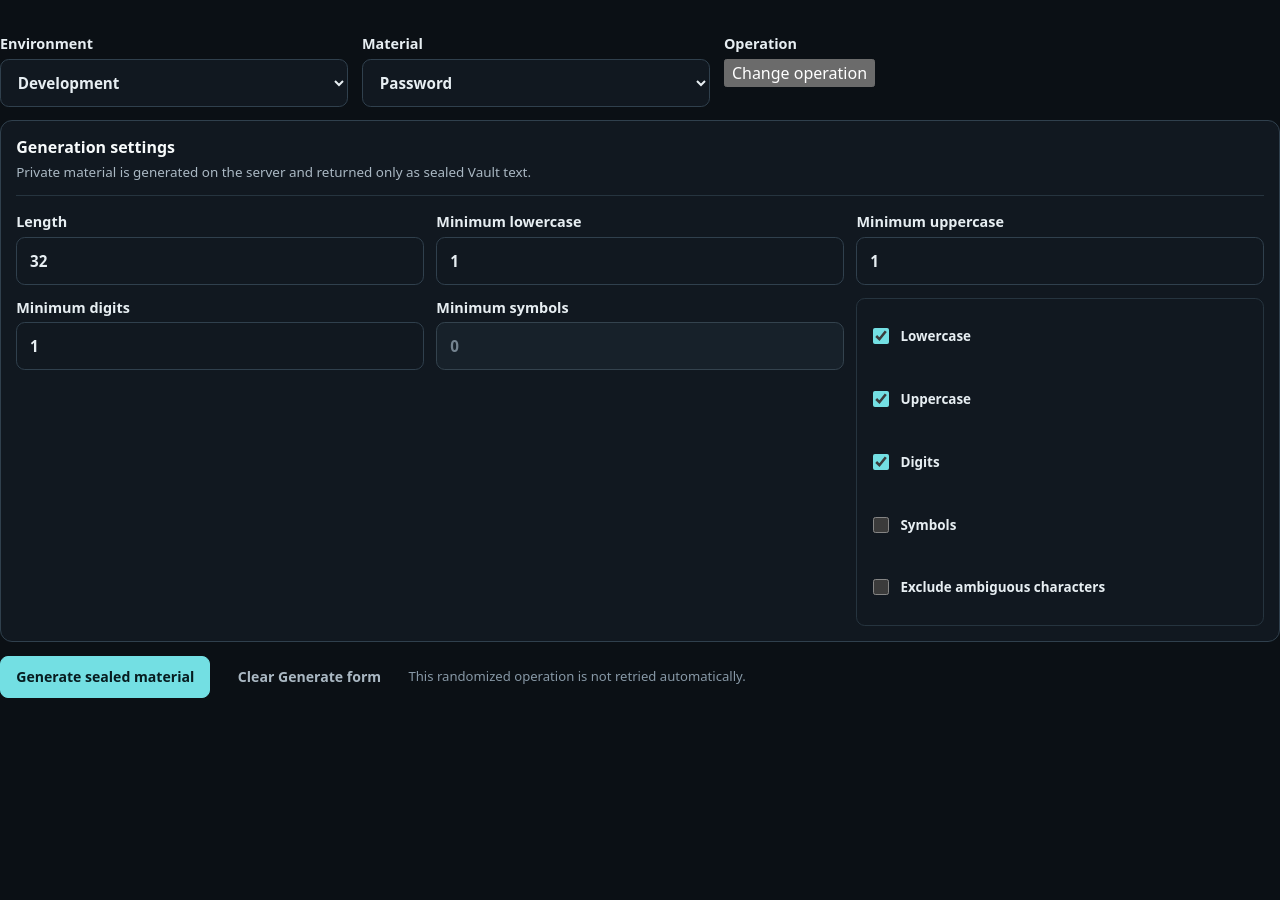
Test: Generate workbench › copies only the sealed x509_csr value as an Ansible snippet
expect the field labelled "Ansible variable name" is not shown: met
Select "X.509 key and CSR" in the dropdown labelled "Material" at (536, 83), box [362,59,710,107]
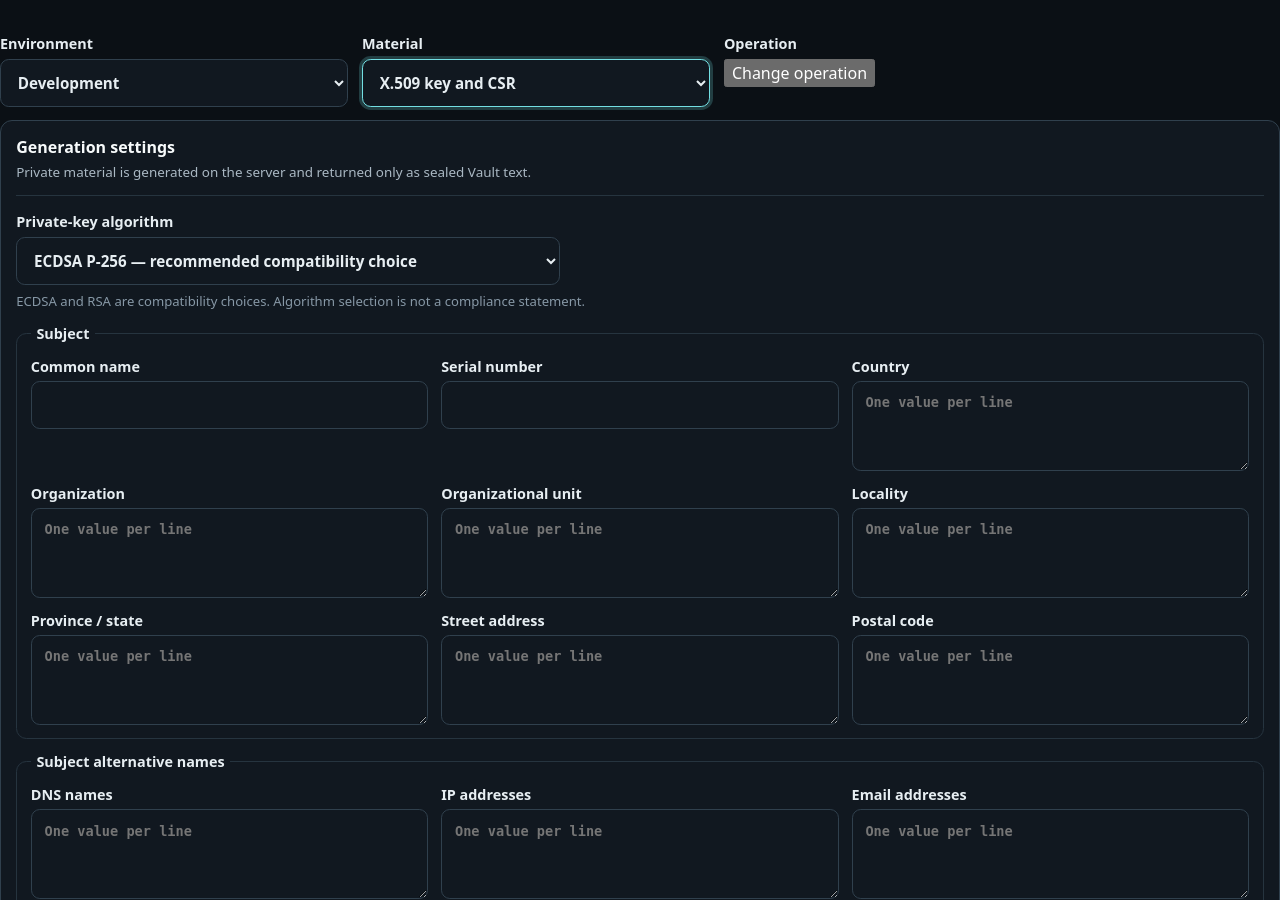
Type "service.example" into the field labelled "Common name" at (230, 405), box [31,381,428,429]
(page scrolled)
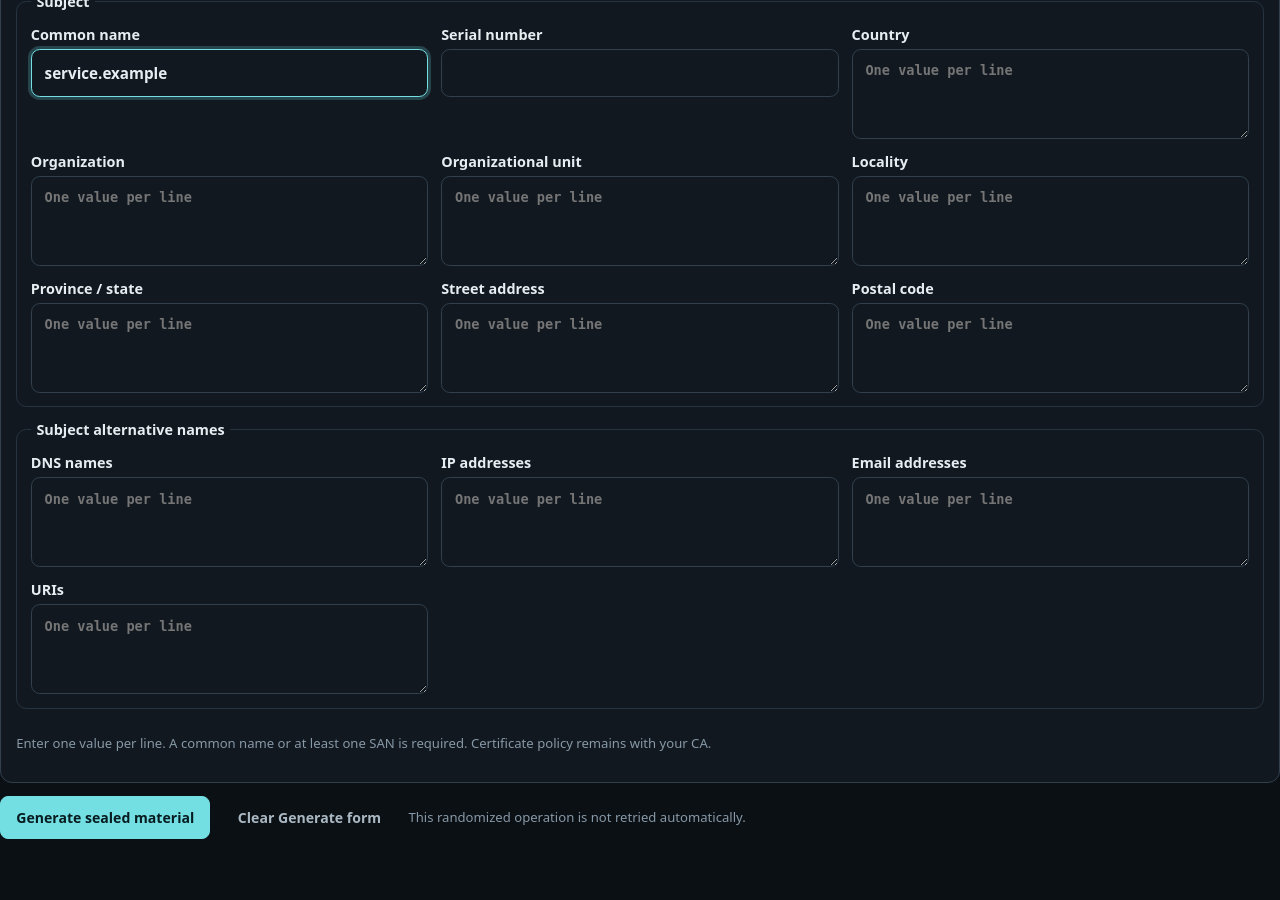
Click the button "Generate sealed material" at (105, 818), box [0,796,210,839]
(page scrolled)
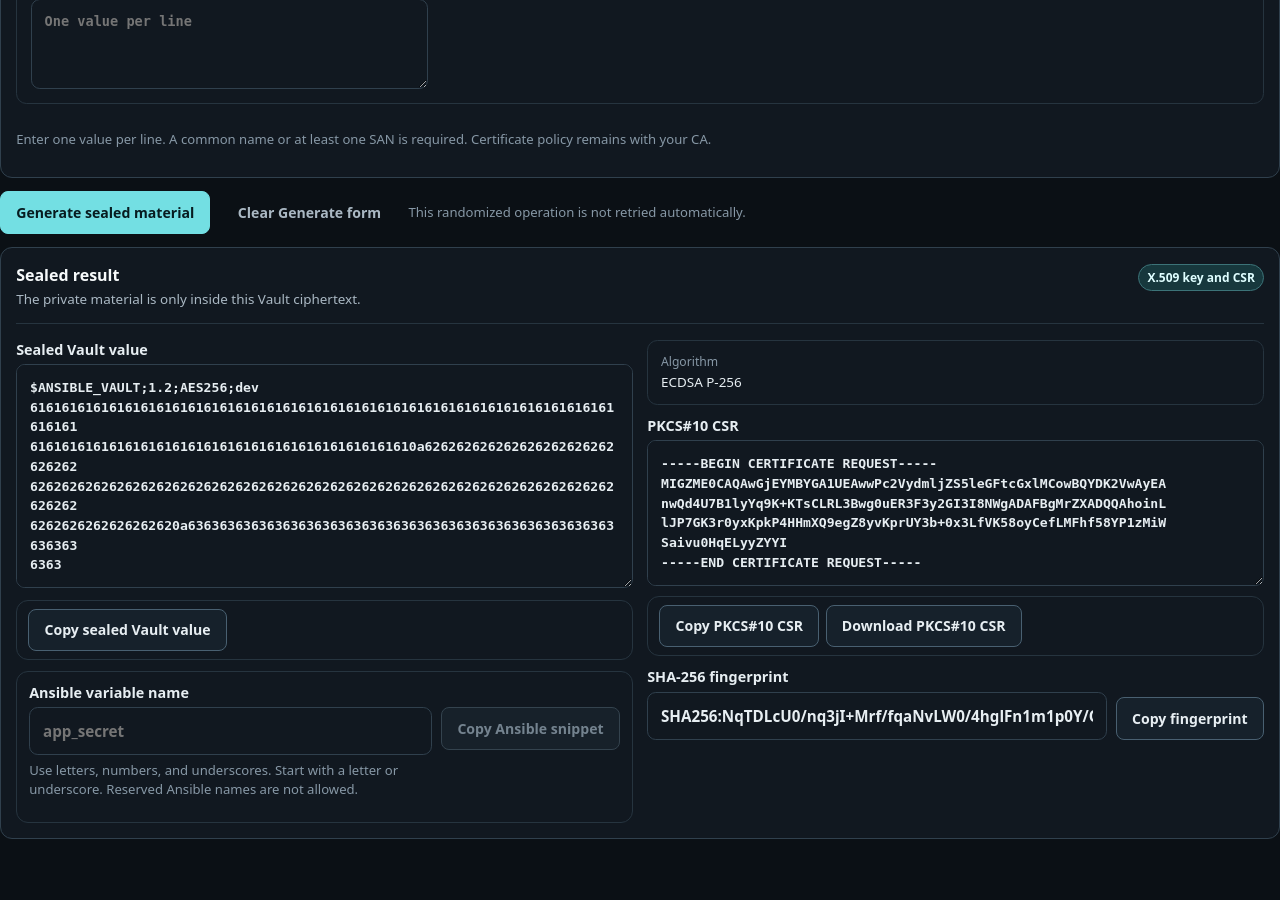
expect the button "Copy Ansible snippet" is disabled: met, box [441,707,620,750]
Type "yes" into the field labelled "Ansible variable name" at (230, 731), box [29,707,432,755]
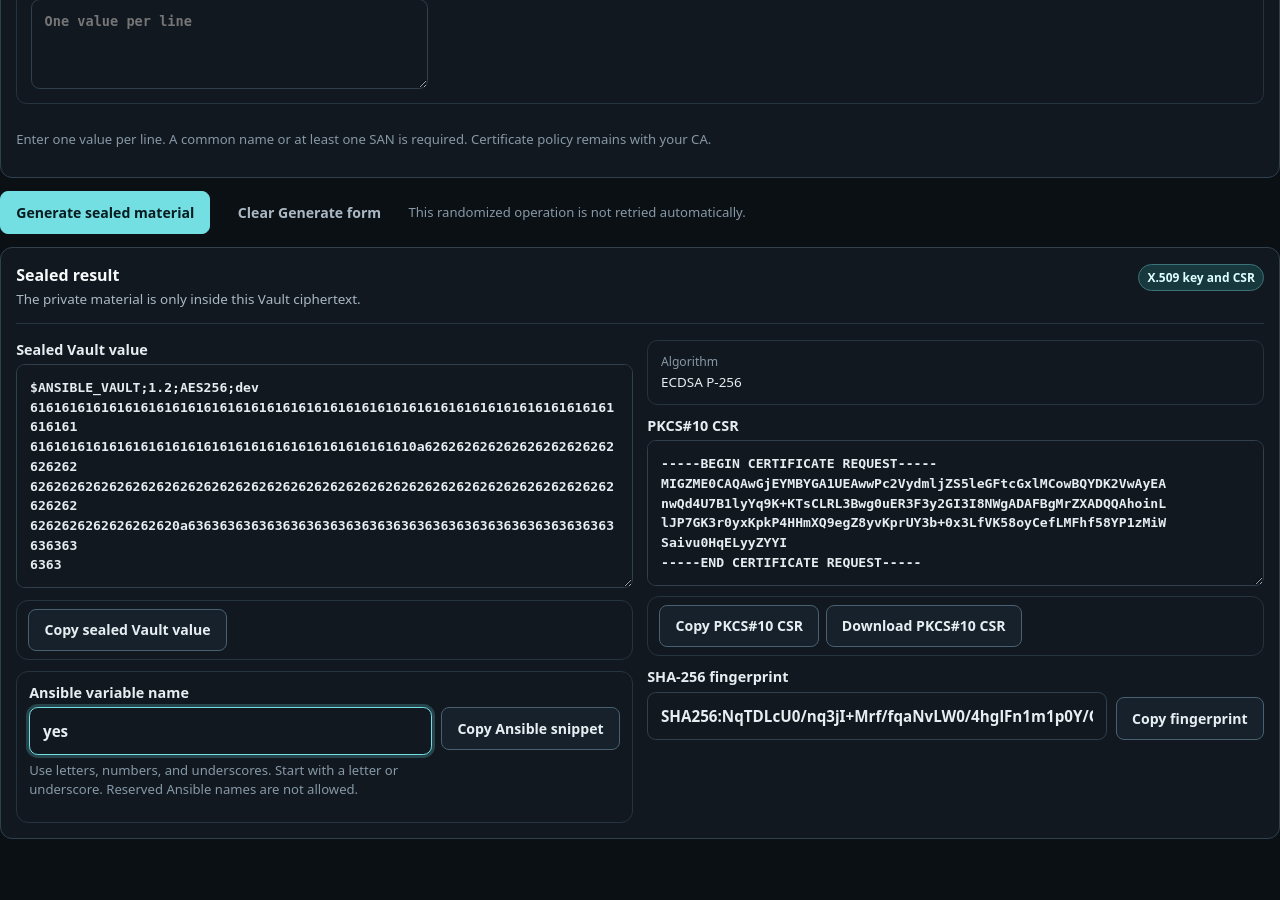
Press Enter
Click the button "Copy Ansible snippet" at (530, 728), box [441,707,620,750]
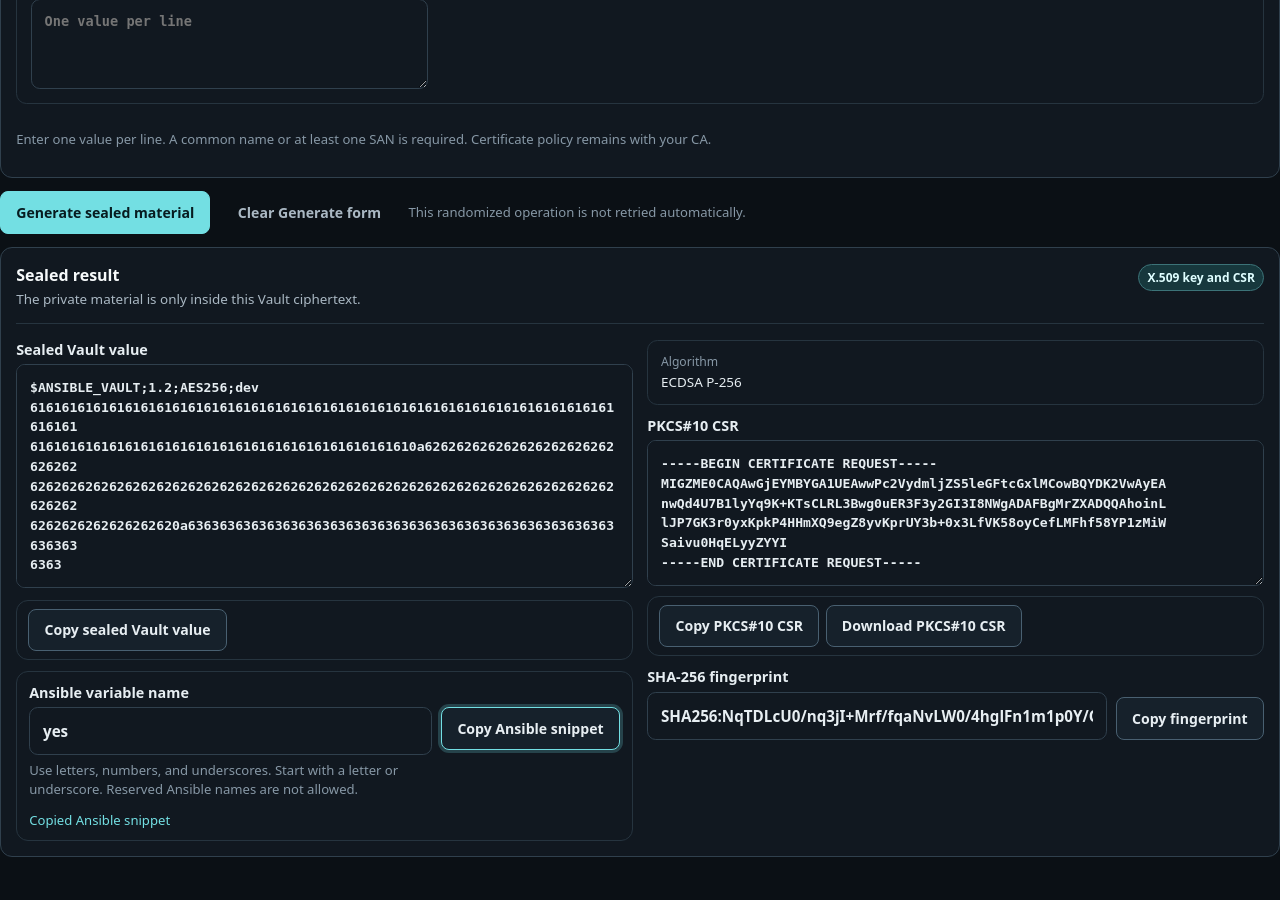
expect the text "Copied Ansible snippet" is shown: met, box [29,811,170,829]
